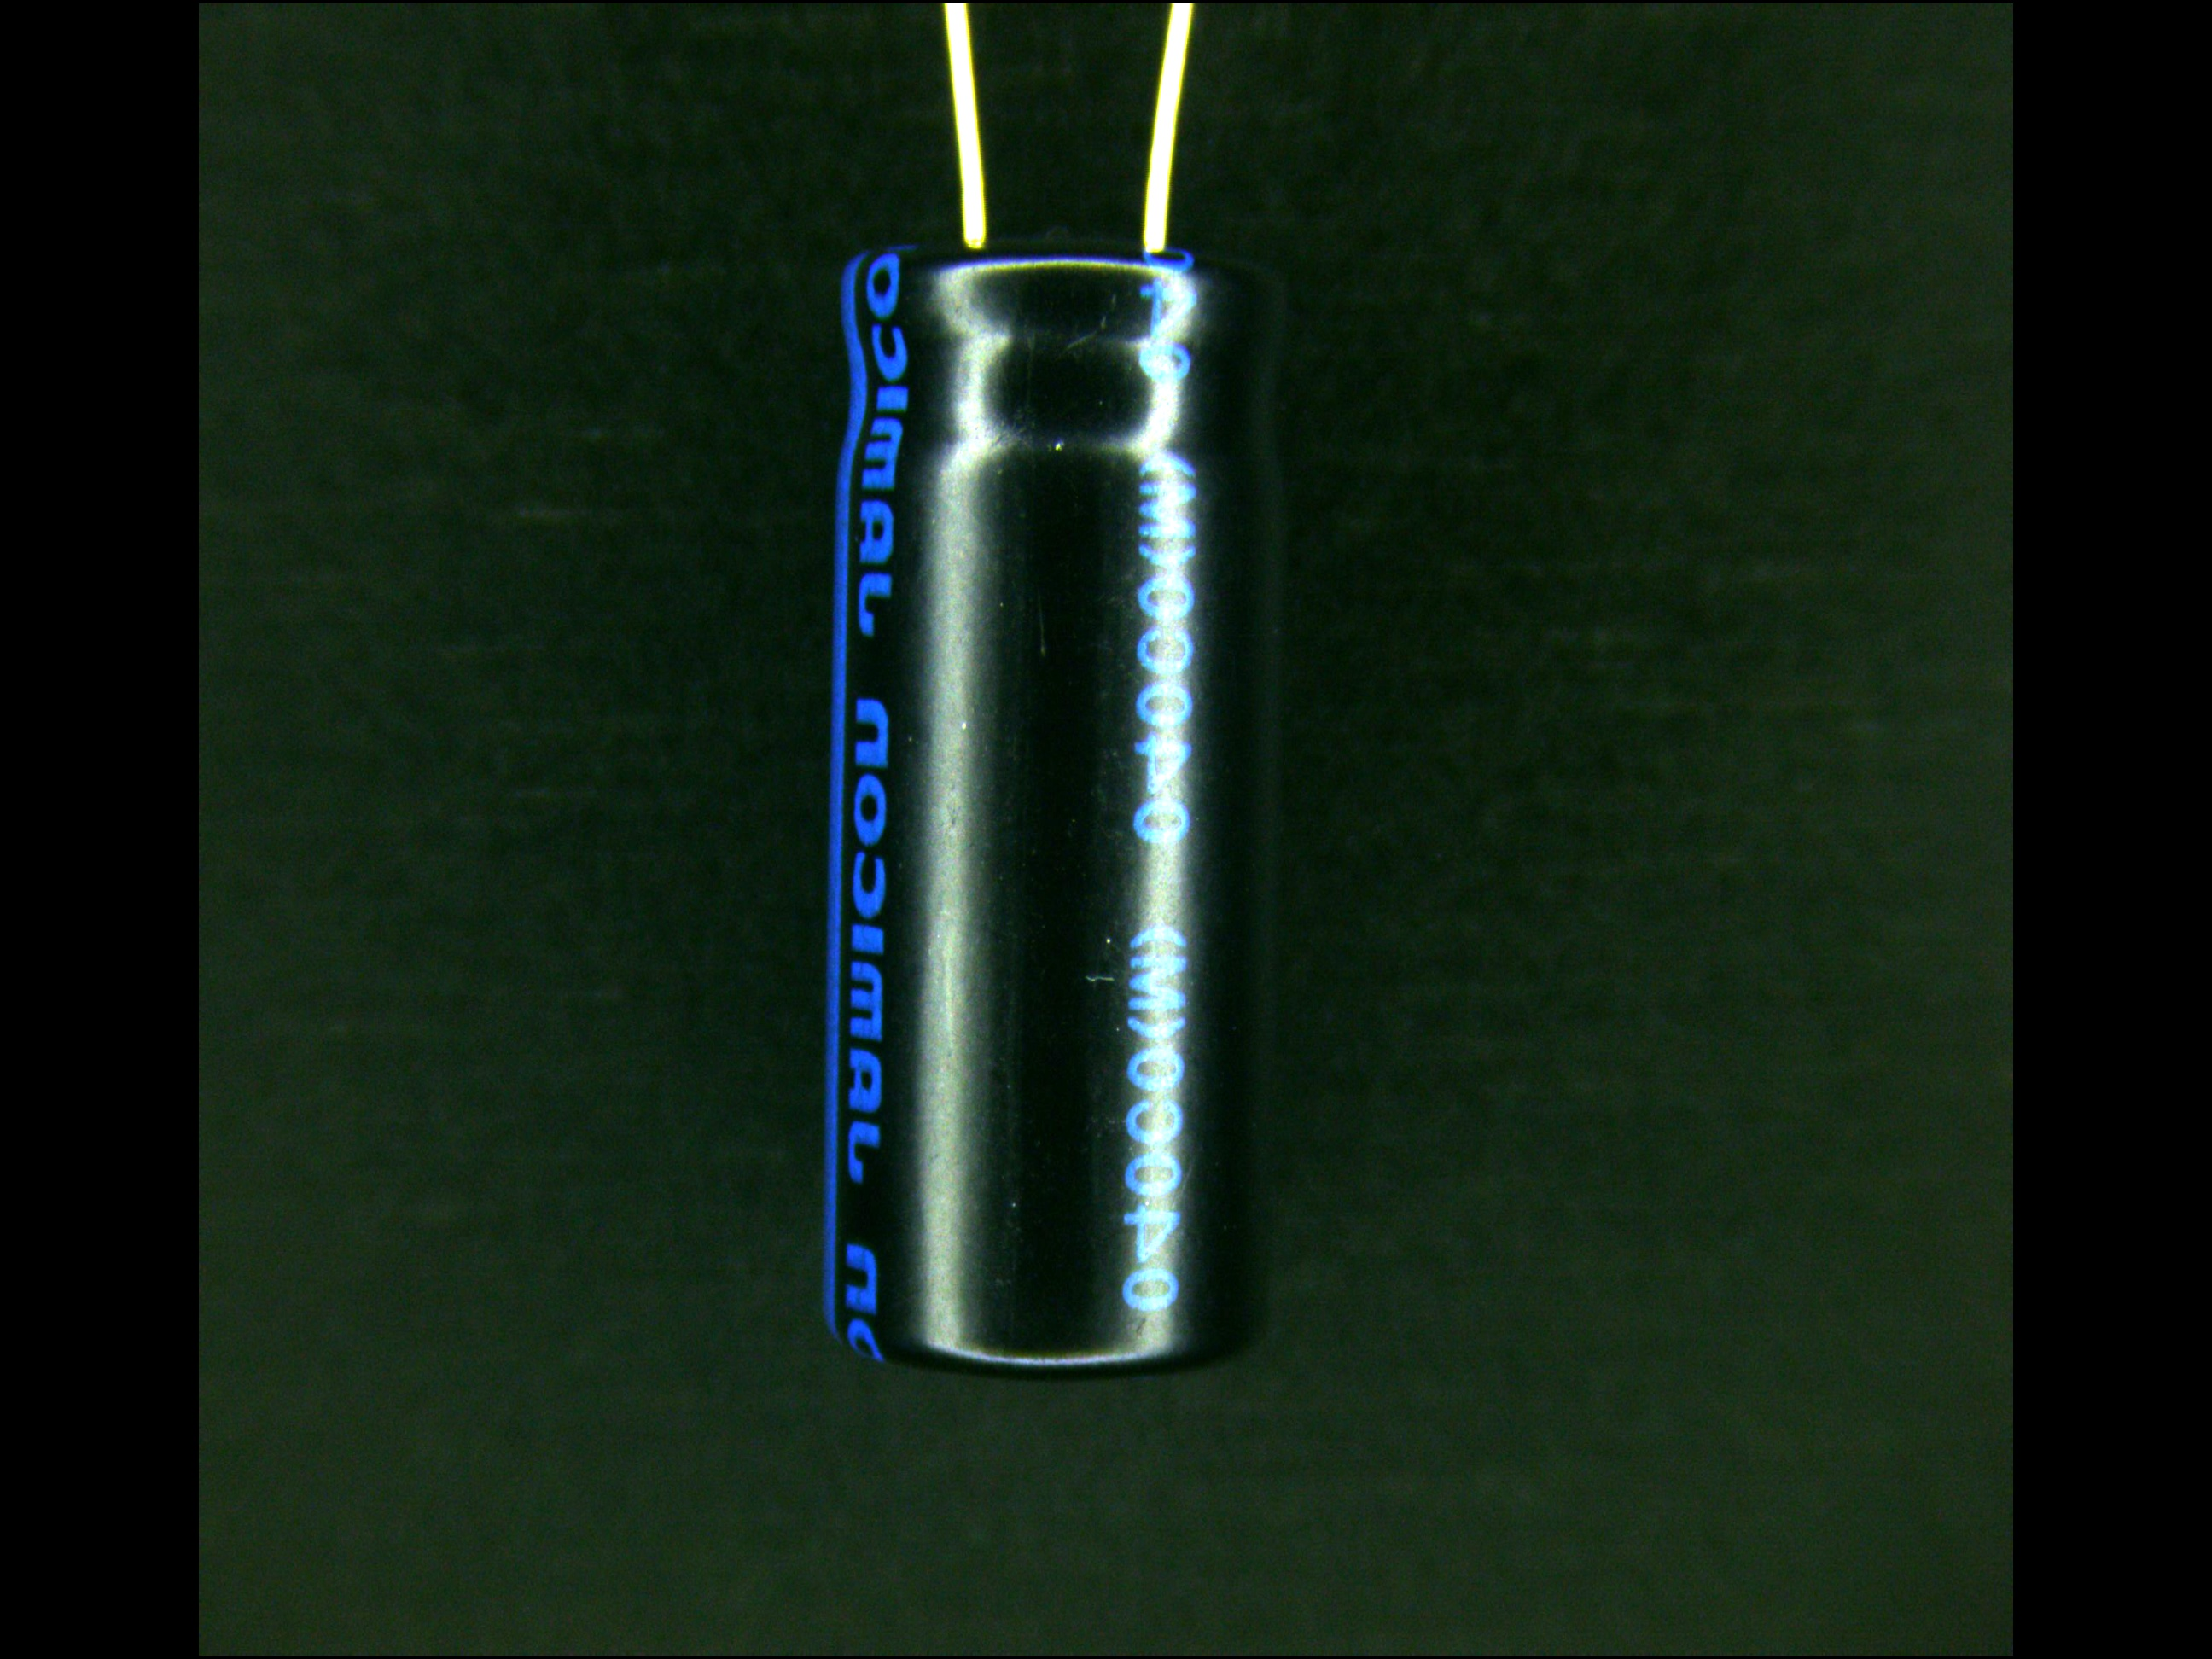c2: (817, 173, 1289, 1384)
